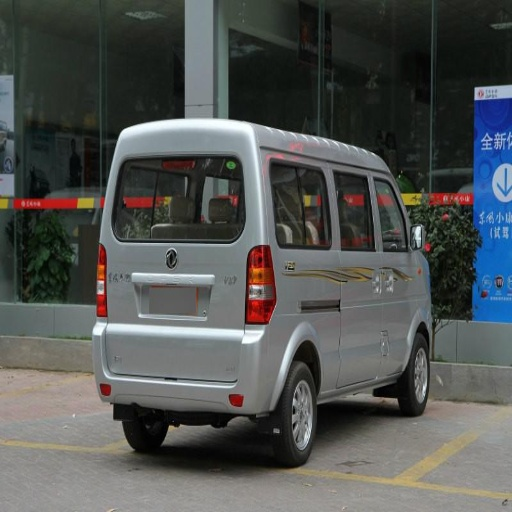back_bumper: (94, 323, 274, 409), (247, 321, 298, 396)
back_right_door: (270, 162, 376, 225)
trunk: (106, 244, 276, 400), (295, 256, 432, 360)
